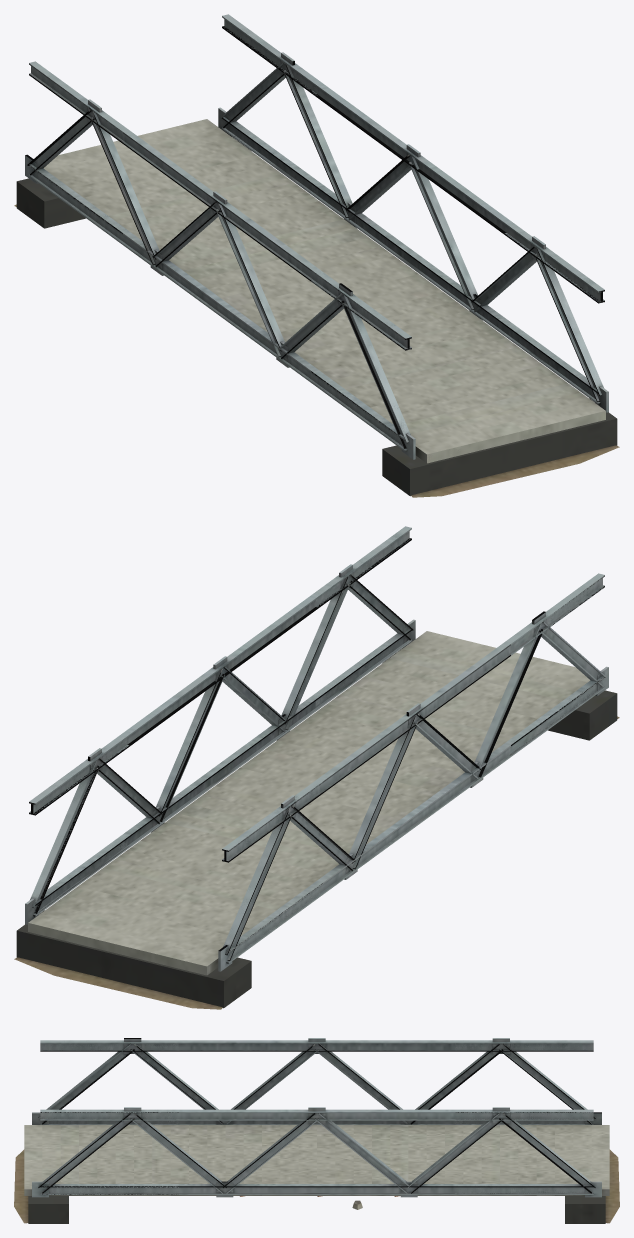
File: bridge-steel.glb
The picture shows the model from 3 angles, top to bottom: view 1: azimuth 30°, elevation 25°; view 2: azimuth 150°, elevation 25°; view 3: azimuth 270°, elevation 25°; orthographic projection. The views are drawn at different scales.
Visible parts, largest first — view 1: LOD0 (×2); view 2: LOD0 (×2); view 3: LOD0 (×2).
Part boxes in pixels (x1,y1,x2,y2): LOD0 (×2): (14, 14, 619, 497); LOD0 (×2): (14, 526, 619, 1009); LOD0 (×2): (14, 1038, 619, 1223).
Size of what is drawn, in the model's own units: 0.36 by 0.257 by 1.24.
2 materials, 2 textured.
